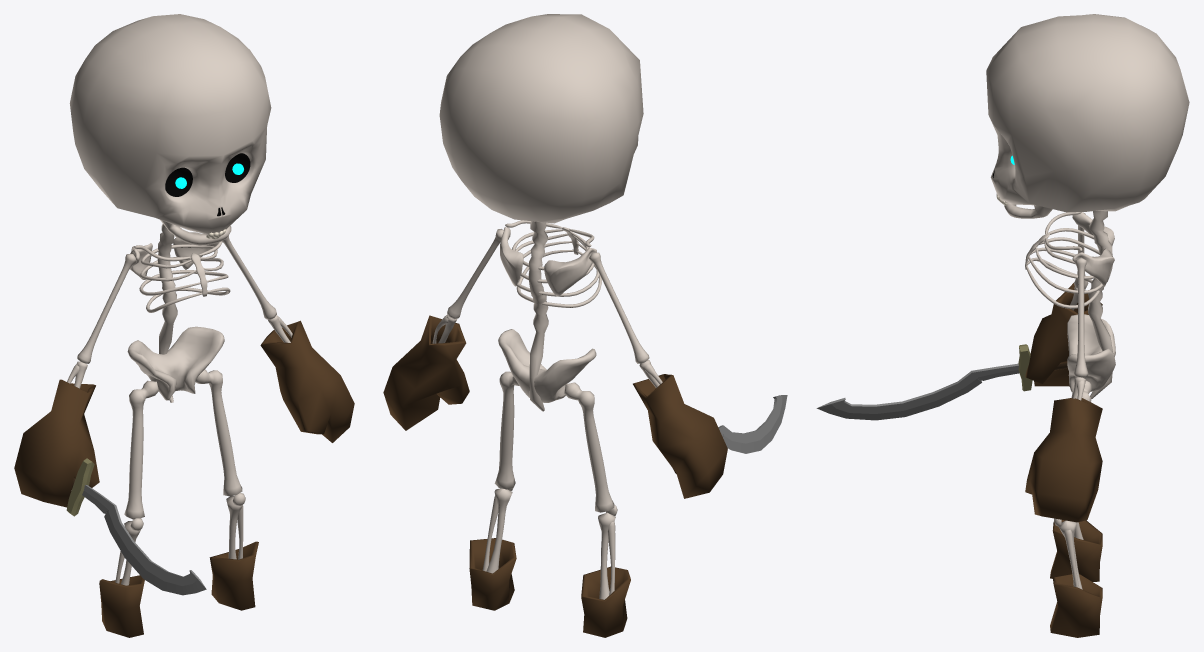
The model's file is Skeleton.fbx.
The picture shows the model from 3 angles, left to right: view 1: azimuth 30°, elevation 25°; view 2: azimuth 150°, elevation 25°; view 3: azimuth 270°, elevation 25°; orthographic projection.
Visible parts, largest first — view 1: Skull.002; view 2: Skull.002; view 3: Skull.002.
Part boxes in pixels (bbox=[...]): Skull.002: bbox=[14, 14, 354, 637]; Skull.002: bbox=[383, 14, 787, 637]; Skull.002: bbox=[816, 14, 1189, 637].
Bounding box in the file's own units: 103 × 179 × 104.
